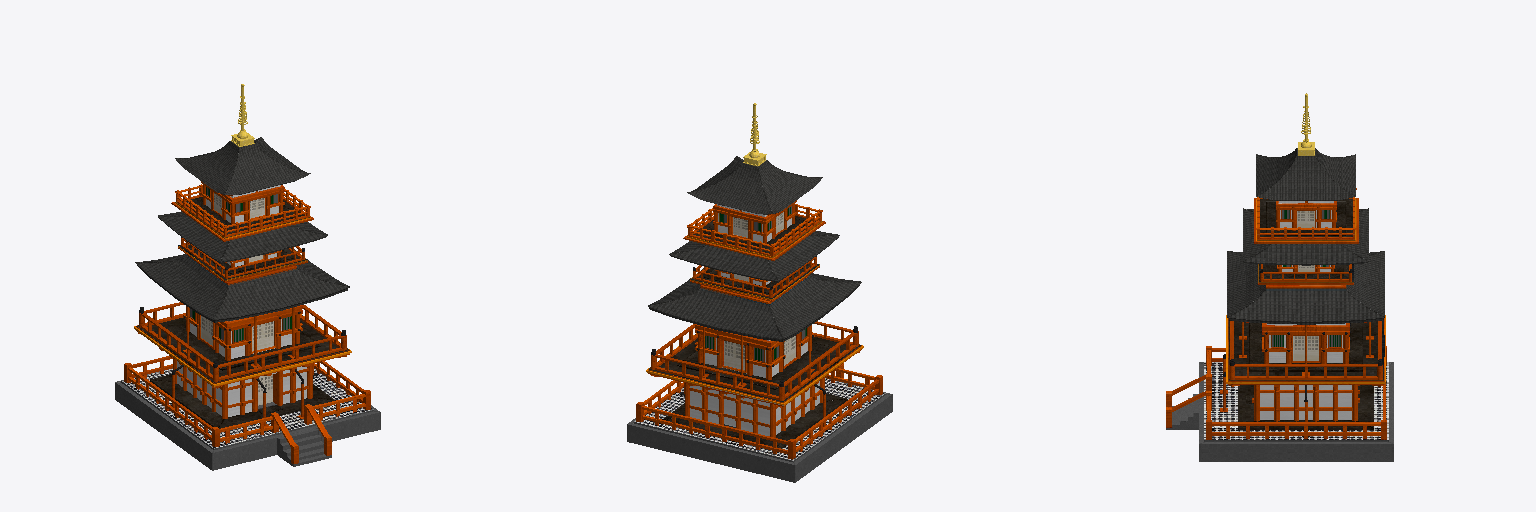
3 renders of one model, left to right at view 1: azimuth 30°, elevation 25°; view 2: azimuth 150°, elevation 25°; view 3: azimuth 270°, elevation 25°, orthographic.
Parts seen in each view (by area): view 1: Japanese_Shrine_Cylinder.011; view 2: Japanese_Shrine_Cylinder.011; view 3: Japanese_Shrine_Cylinder.011.
Part boxes in pixels (left/top/right/bottom): Japanese_Shrine_Cylinder.011: left=115, top=84, right=380, bottom=470; Japanese_Shrine_Cylinder.011: left=627, top=103, right=892, bottom=482; Japanese_Shrine_Cylinder.011: left=1166, top=93, right=1393, bottom=461.
Bounding box in the file's own units: 20 × 37.38 × 23.4.
Materials: 1 (1 with a texture image).